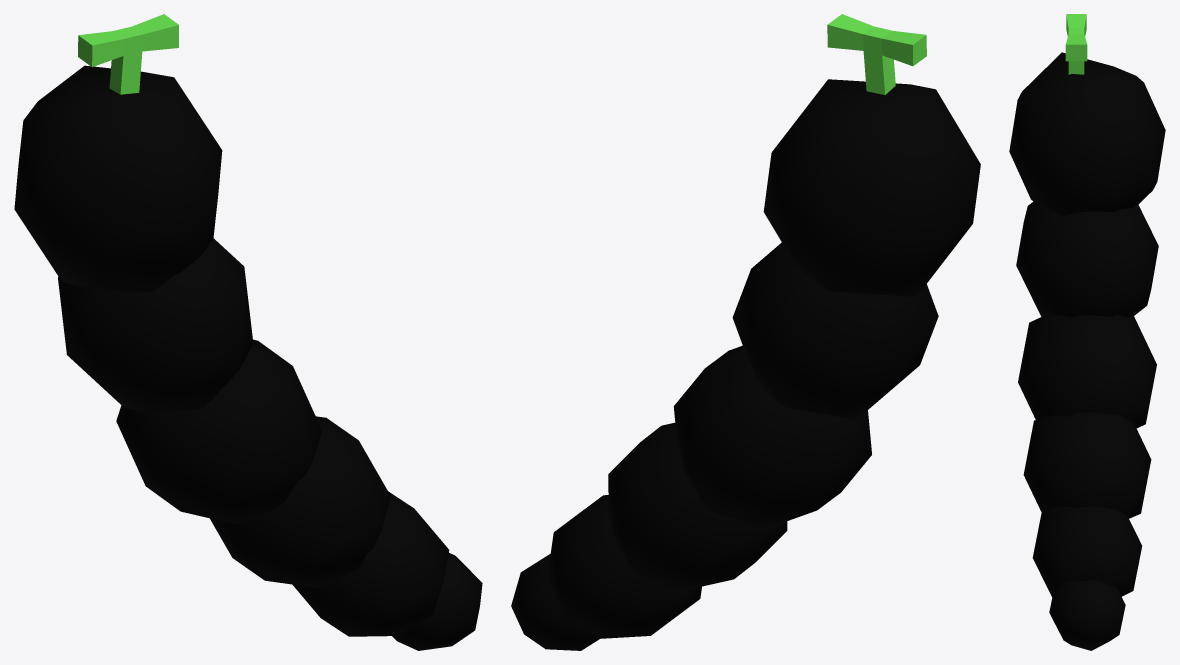
Rendered from Grappel_Berry.fbx.
3 views of the same model, side by side, from view 1: azimuth 30°, elevation 25°; view 2: azimuth 150°, elevation 25°; view 3: azimuth 270°, elevation 25° (orthographic). The views are drawn at different scales.
Visible parts, largest first — view 1: Grappel_Berry; view 2: Grappel_Berry; view 3: Grappel_Berry.
Part boxes in pixels (bbox=[...]): Grappel_Berry: bbox=[14, 14, 482, 650]; Grappel_Berry: bbox=[511, 14, 980, 650]; Grappel_Berry: bbox=[1009, 14, 1165, 650].
Bounding box in the file's own units: 0.5499 × 1.97 × 1.32.
